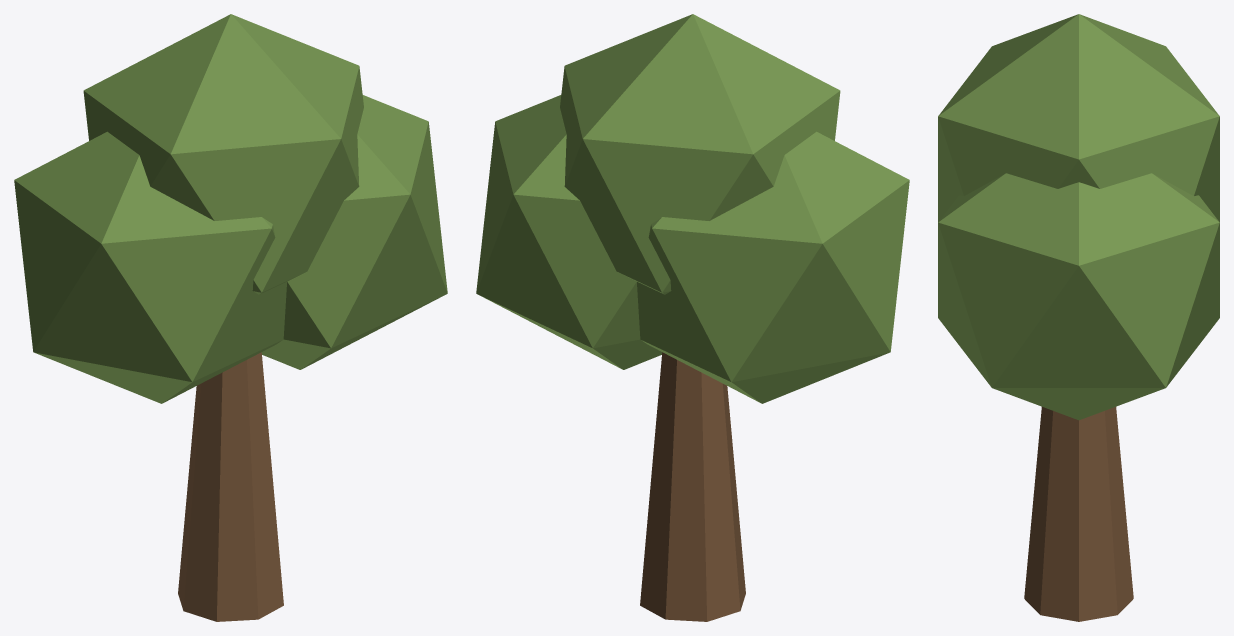
File: tree-1.glb
3 views of the same model, side by side, from view 1: azimuth 30°, elevation 25°; view 2: azimuth 150°, elevation 25°; view 3: azimuth 270°, elevation 25° (orthographic).
Parts seen in each view (by area): view 1: Icosphere, Icosphere.001, Icosphere.002, Cone.004; view 2: Icosphere, Icosphere.001, Icosphere.002, Cone.004; view 3: Icosphere.002, Icosphere.001, Cone.004.
Boxes of the visible parts, x1,y1,x2,y2 form: Icosphere: (14, 131, 286, 403); Icosphere.001: (83, 14, 363, 294); Icosphere.002: (261, 95, 447, 369); Cone.004: (178, 352, 283, 621); Icosphere: (637, 131, 909, 403); Icosphere.001: (560, 14, 840, 294); Icosphere.002: (476, 95, 662, 369); Cone.004: (640, 352, 745, 621); Icosphere.002: (938, 173, 1219, 420); Icosphere.001: (938, 14, 1219, 216); Cone.004: (1024, 407, 1133, 621).
Bounding box in the file's own units: 3.99 × 5.65 × 2.47.
